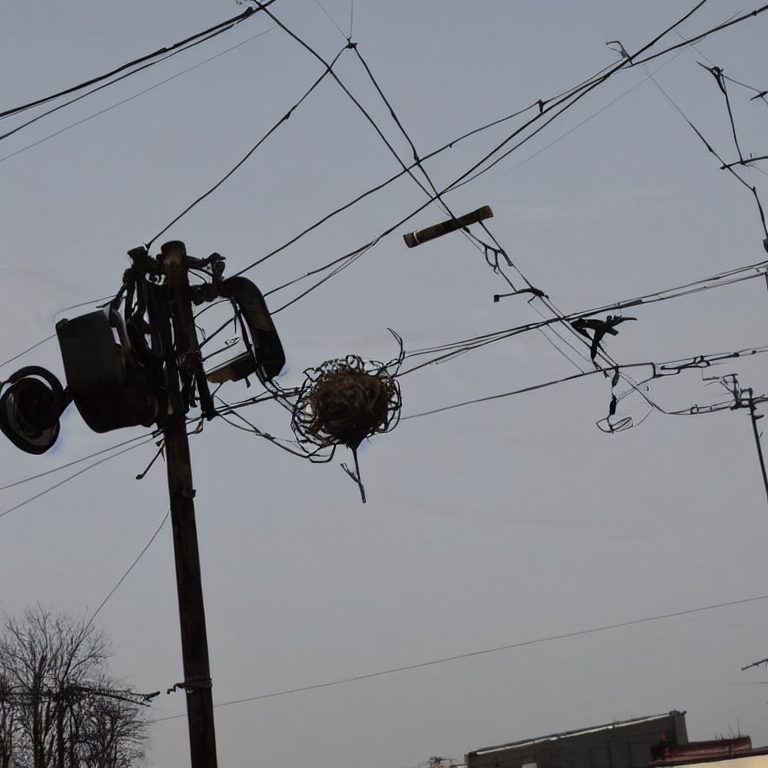nest: (302, 361, 398, 447)
